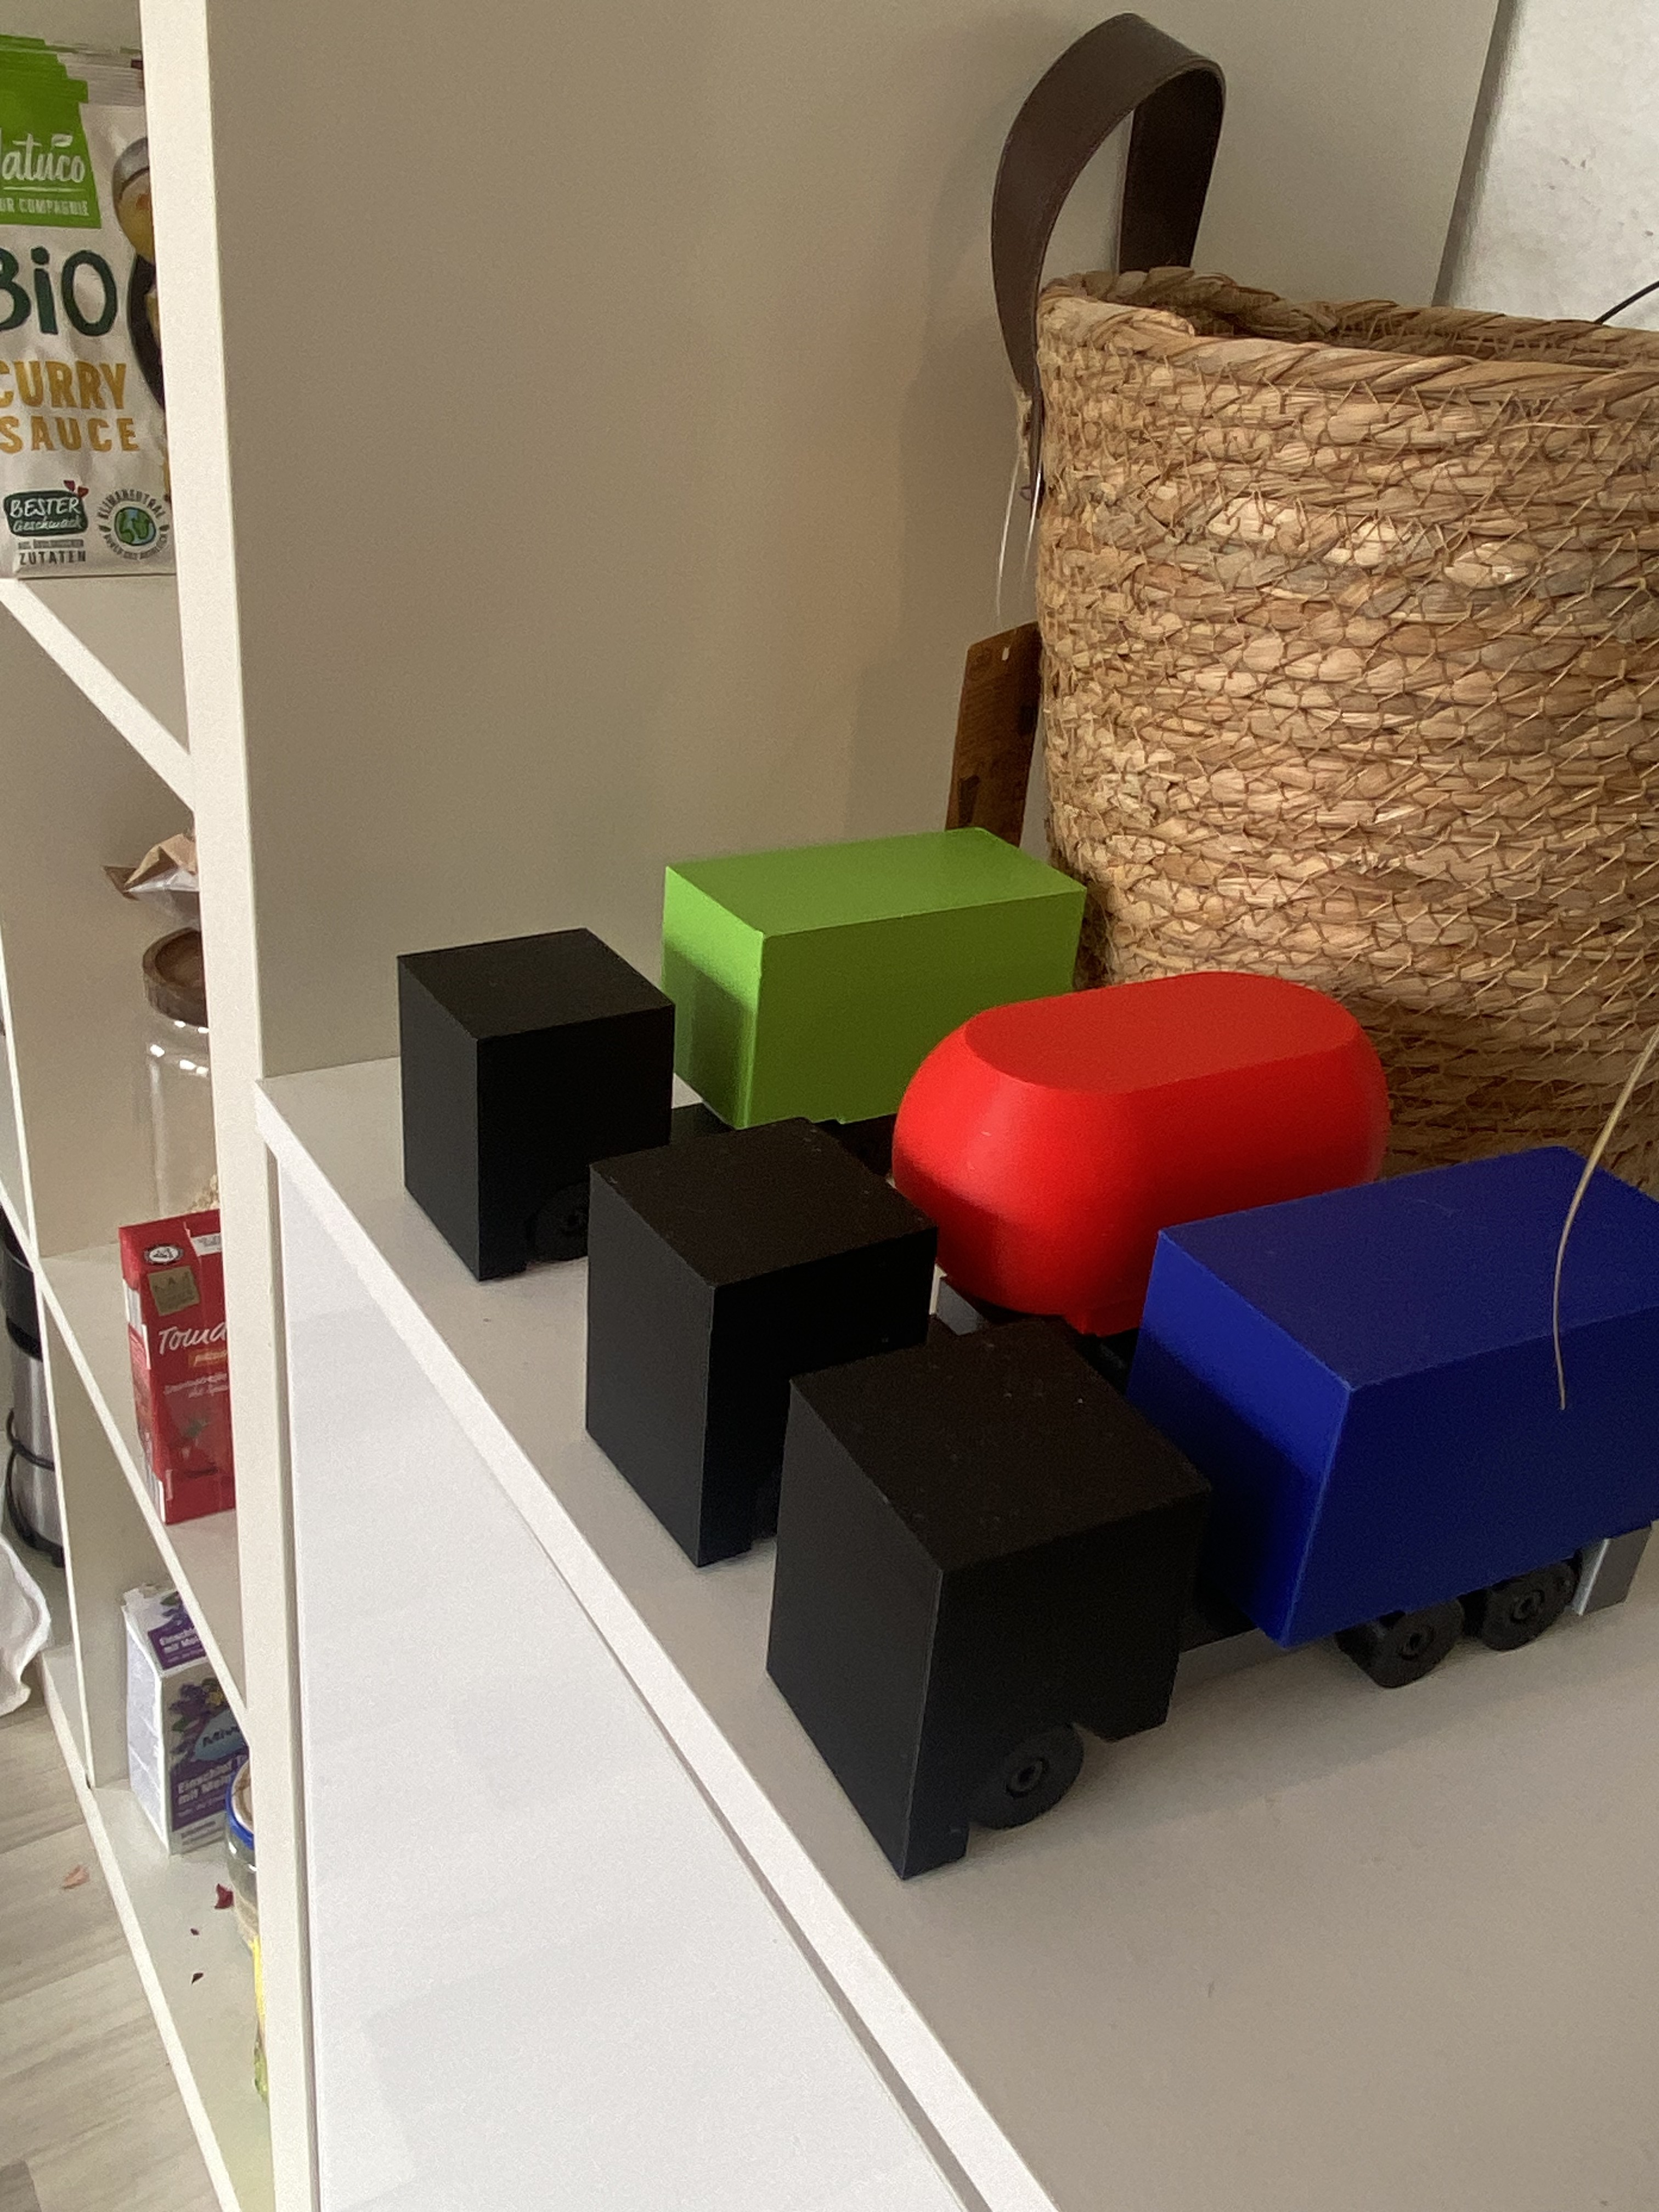blue_truck: (721, 1244, 1659, 1707)
green_truck: (591, 617, 884, 1383)
red_truck: (497, 1000, 1398, 1414)
